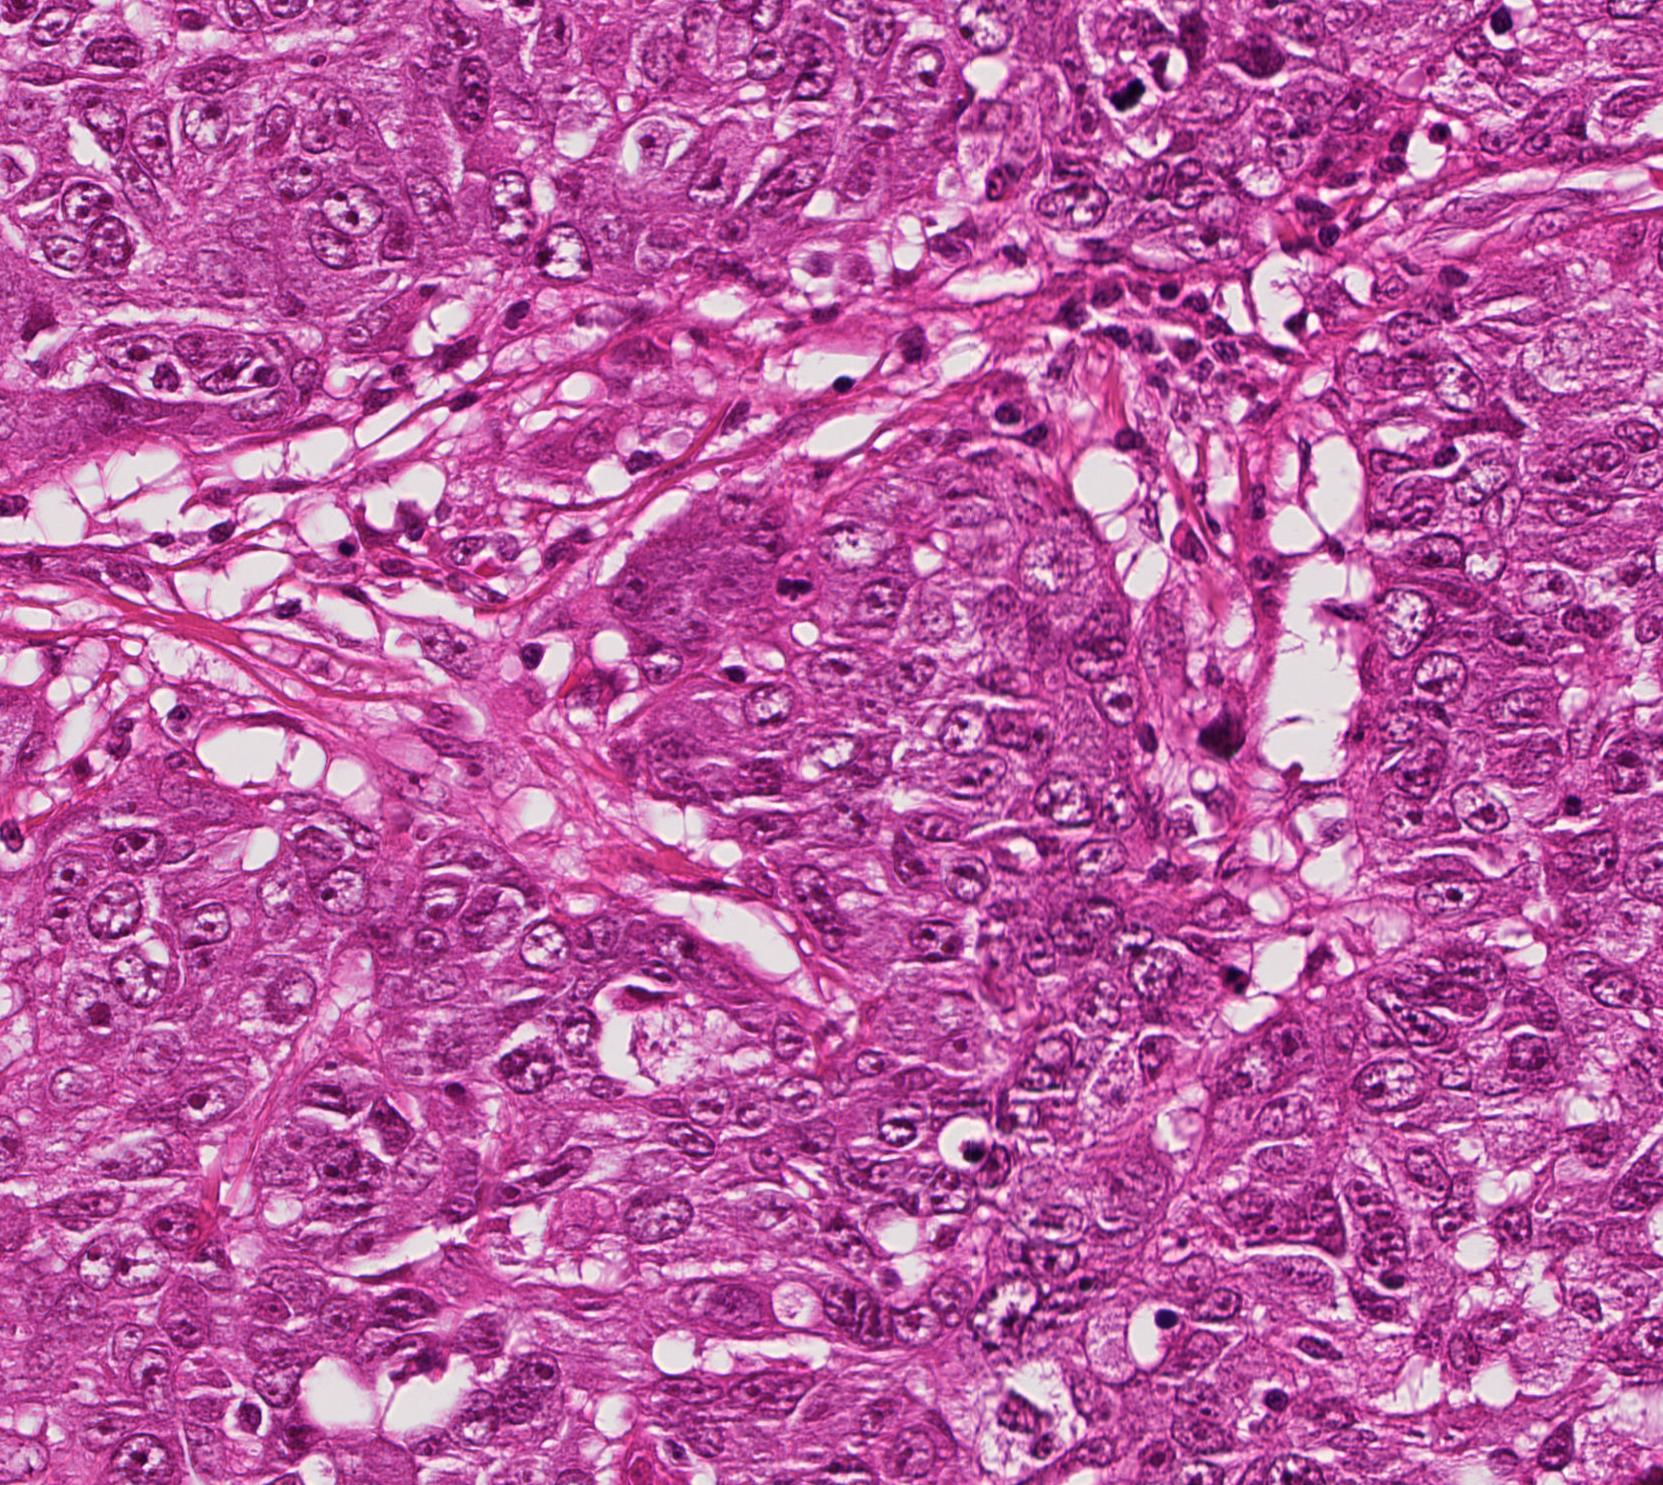mitosis: (1092, 66, 1153, 126)
